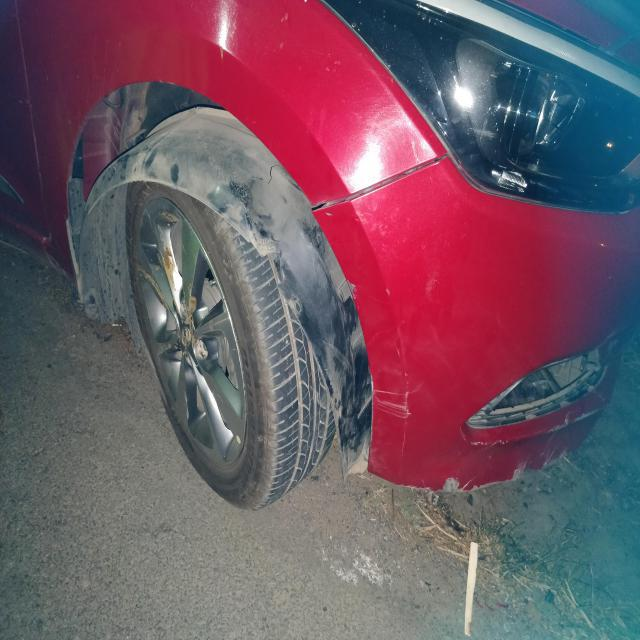front-bumper-dent: (318, 183, 639, 487)
